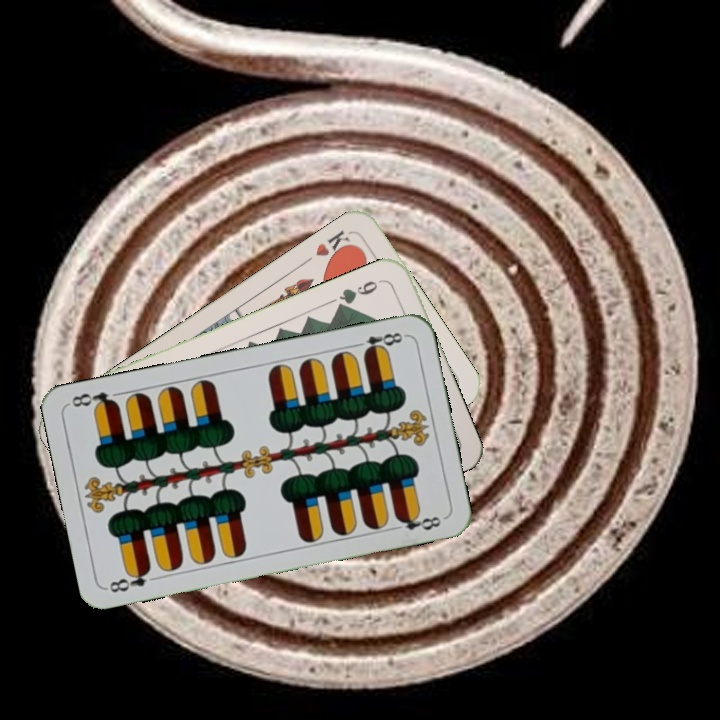E8: (350, 328, 409, 357), (105, 564, 153, 595)
G9: (333, 275, 386, 312)
HK: (311, 226, 356, 265)
